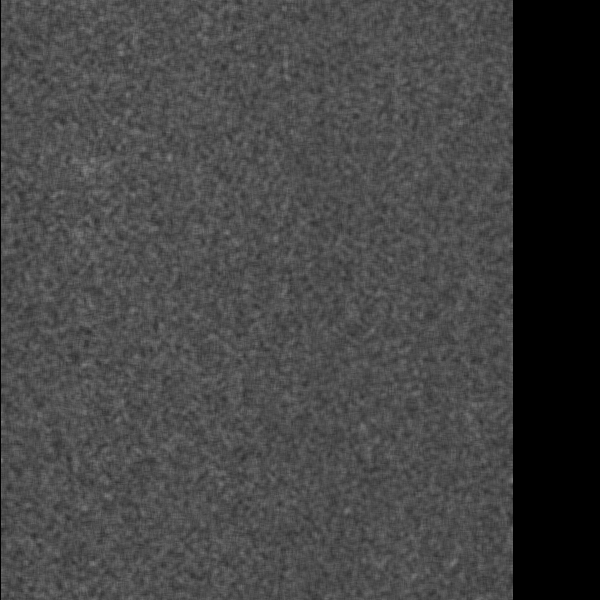spark: (389, 311, 423, 346), (491, 239, 512, 282)
